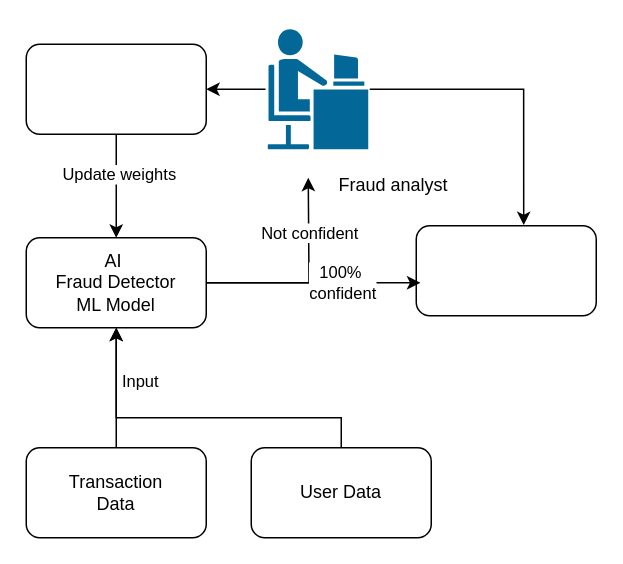
The diagram is 623 pixels wide and 564 high, and some of its shapes have lost their labels. The centre of each missing label's shape, as x and y in pixels:
"Feedback & training" goes at point (115, 88).
"Final decision Apporved/Rejected" goes at point (505, 270).
